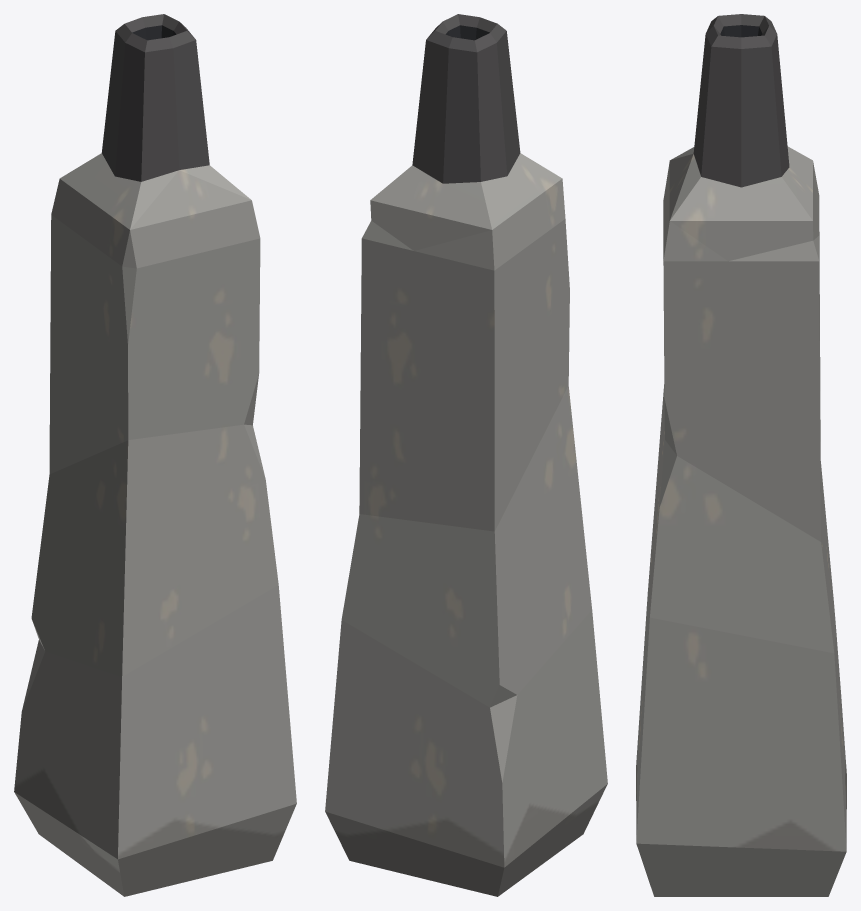
The model's file is kingdom_SM_Bld_House_Chimney_04.gltf.
The picture shows the model from 3 angles, left to right: view 1: azimuth 30°, elevation 25°; view 2: azimuth 150°, elevation 25°; view 3: azimuth 270°, elevation 25°; orthographic projection.
Visible parts, largest first — view 1: SM_Bld_House_Chimney_04; view 2: SM_Bld_House_Chimney_04; view 3: SM_Bld_House_Chimney_04.
Boxes of the visible parts, bbox=[...] form: SM_Bld_House_Chimney_04: bbox=[14, 14, 296, 896]; SM_Bld_House_Chimney_04: bbox=[325, 14, 607, 896]; SM_Bld_House_Chimney_04: bbox=[636, 14, 846, 896].
Bounding box in the file's own units: 0.8696 × 3.8 × 0.8701.
Materials: 1 (1 with a texture image).
